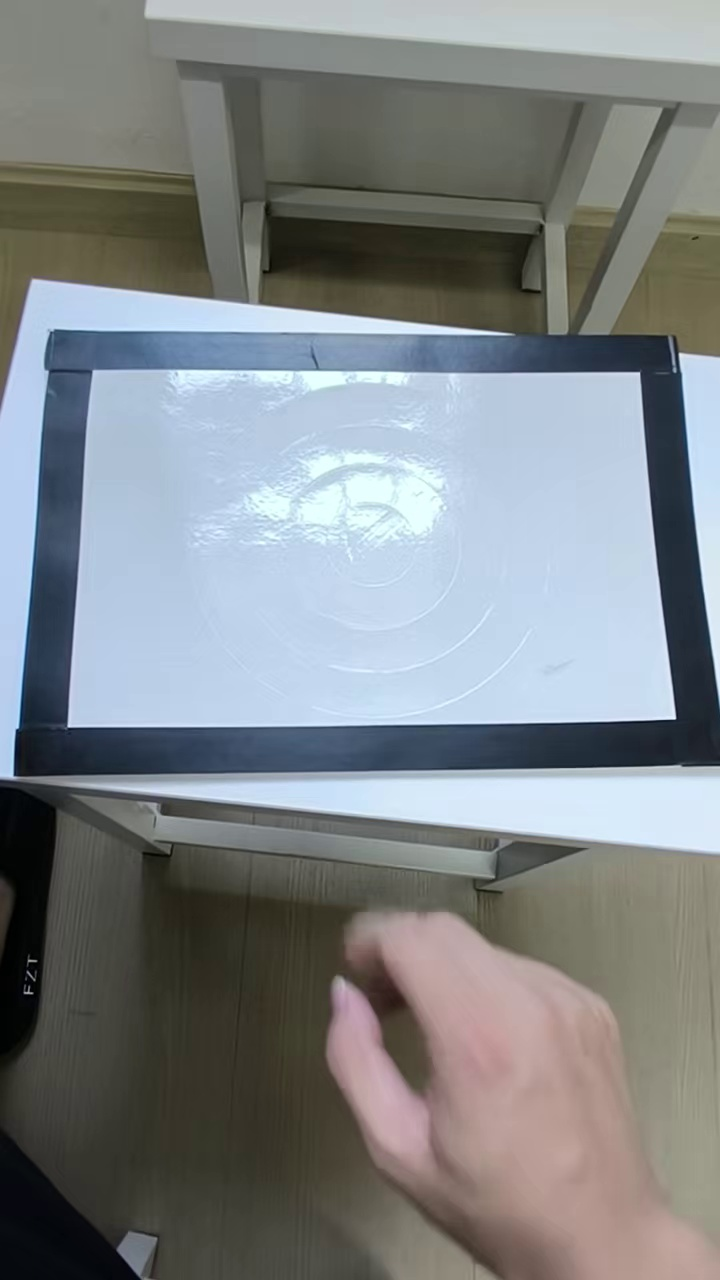board: (19, 331, 712, 769)
